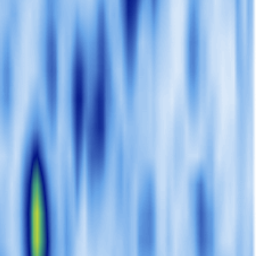defect: (24, 135, 50, 256), (90, 32, 107, 165), (72, 51, 85, 165), (120, 1, 139, 57)
